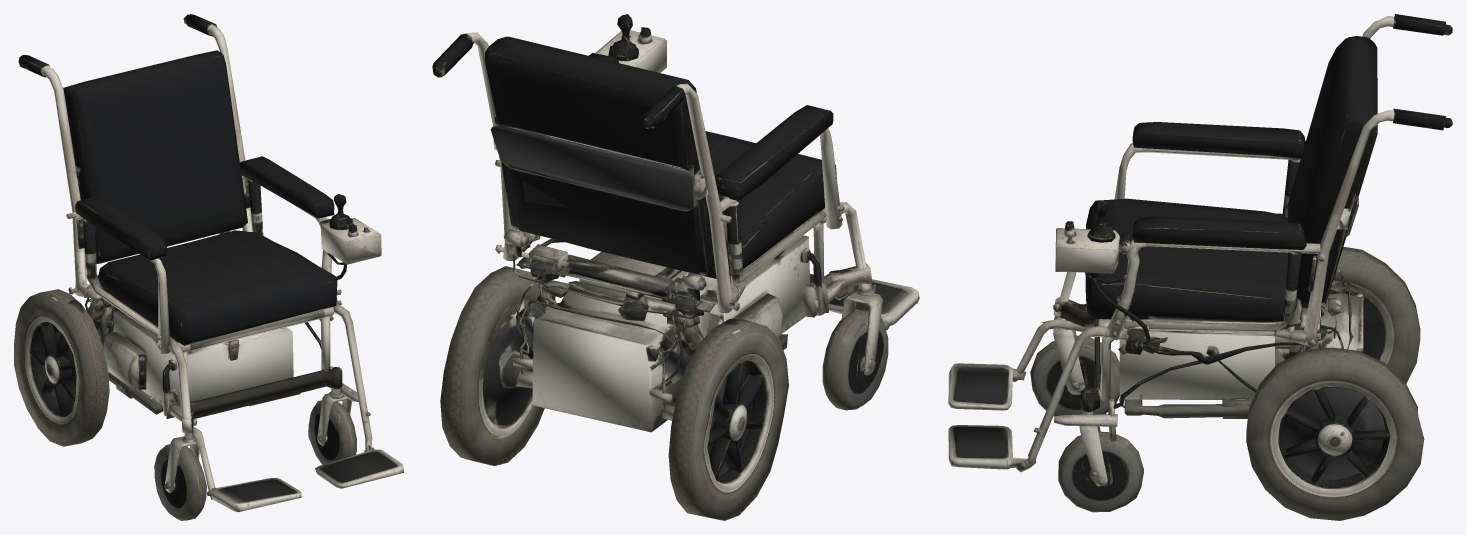
File: wheelchair.glb
The picture shows the model from 3 angles, left to right: view 1: azimuth 30°, elevation 25°; view 2: azimuth 150°, elevation 25°; view 3: azimuth 270°, elevation 25°; orthographic projection. The views are drawn at different scales.
Parts seen in each view (by area): view 1: Mesh_0; view 2: Mesh_0; view 3: Mesh_0.
Part boxes in pixels (box(x1,y1,x2,y2)): Mesh_0: box(14, 14, 403, 520); Mesh_0: box(432, 14, 919, 520); Mesh_0: box(948, 14, 1452, 520).
Size of the model in its own units: 0.5819 by 0.92 by 1.03.
1 material, 1 textured.
